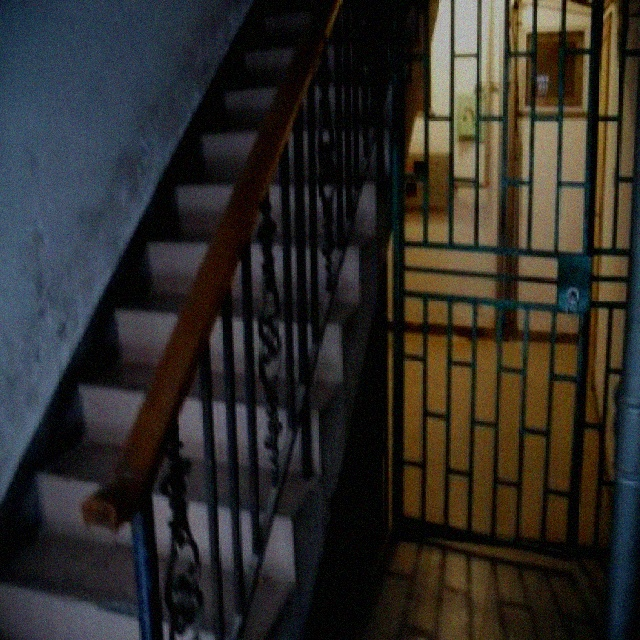stair: (0, 0, 420, 640)
